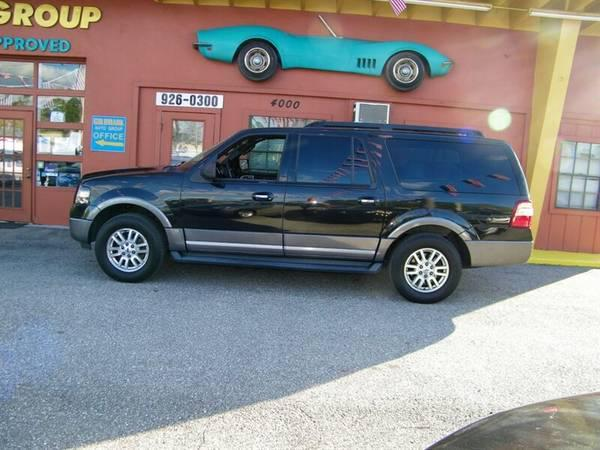Front_Bumper: (68, 206, 97, 247)
Front_Fender: (80, 178, 187, 255)
Front_Left_Door: (182, 184, 286, 263)
Front_Left_Window: (183, 136, 292, 187)
Left_Headlight: (76, 184, 92, 205)
Left_Taillight: (508, 200, 533, 230)
Rear_Bumper: (459, 223, 535, 268)
Rear_Fender: (376, 138, 528, 260)
Rear_Left_Door: (282, 186, 384, 267)
Rear_Left_Window: (285, 136, 377, 188)
Roof: (194, 124, 528, 199)
Wheel: (391, 232, 465, 304), (94, 213, 166, 284)
